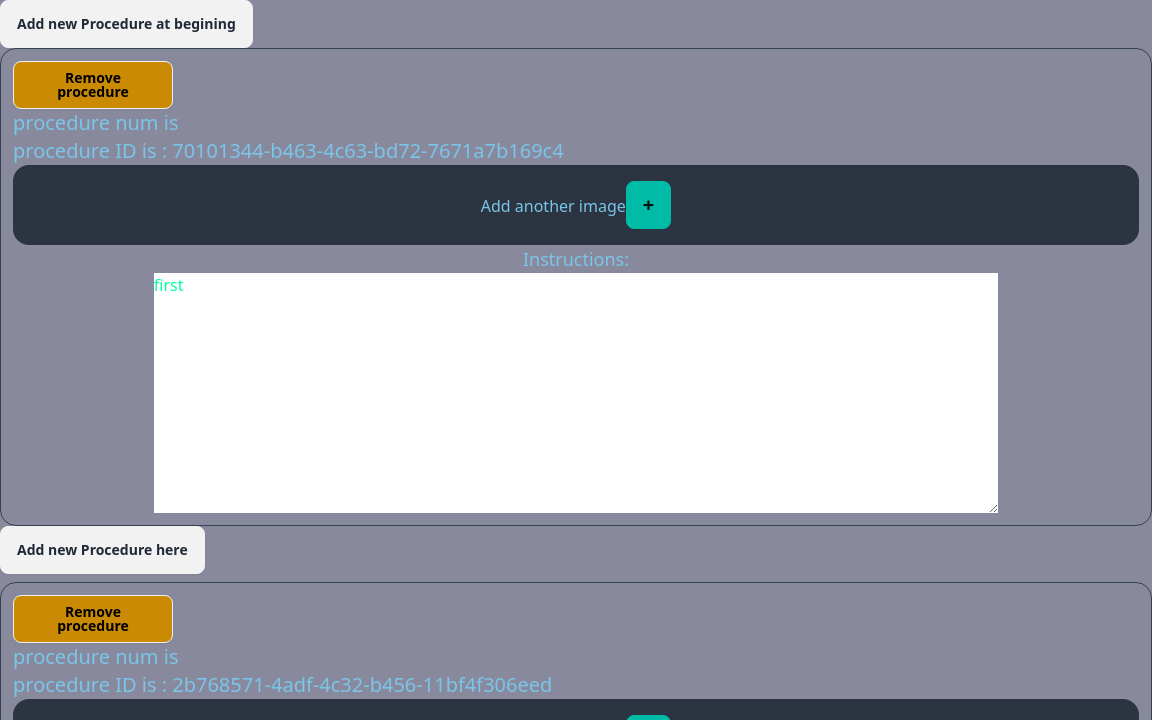
it: EditProcedureList › should remove procedure
The width and height of the screenshot is (1152, 720).
Click the 1st button with test id "remove-procedure-btn". click: (93, 85)
box: [13,61,173,109]
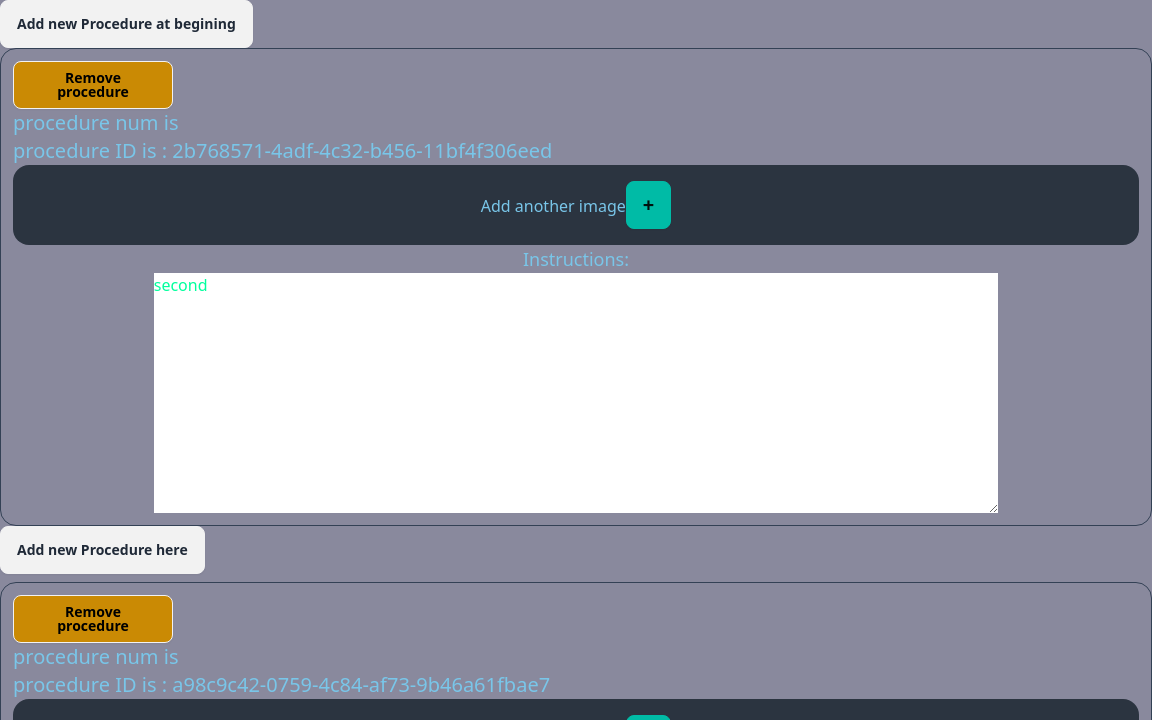
Expected: the number of elements with test id "edit-procedure-card" is 3
